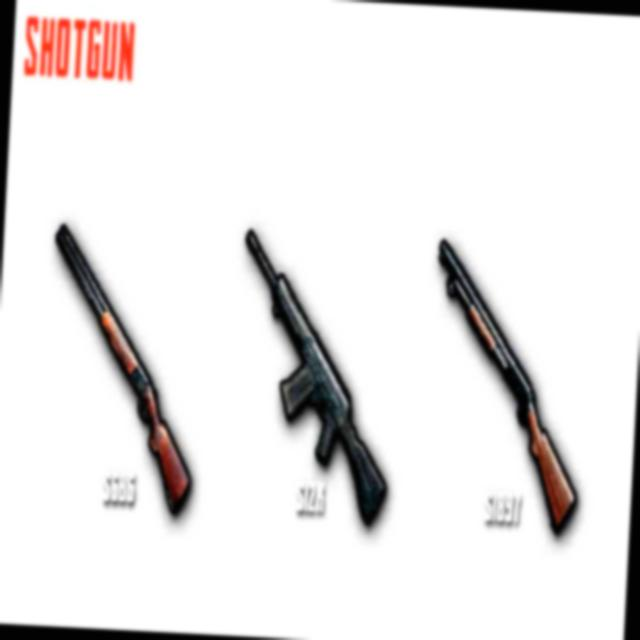shotgun: (27, 206, 220, 544), (401, 228, 599, 540)
